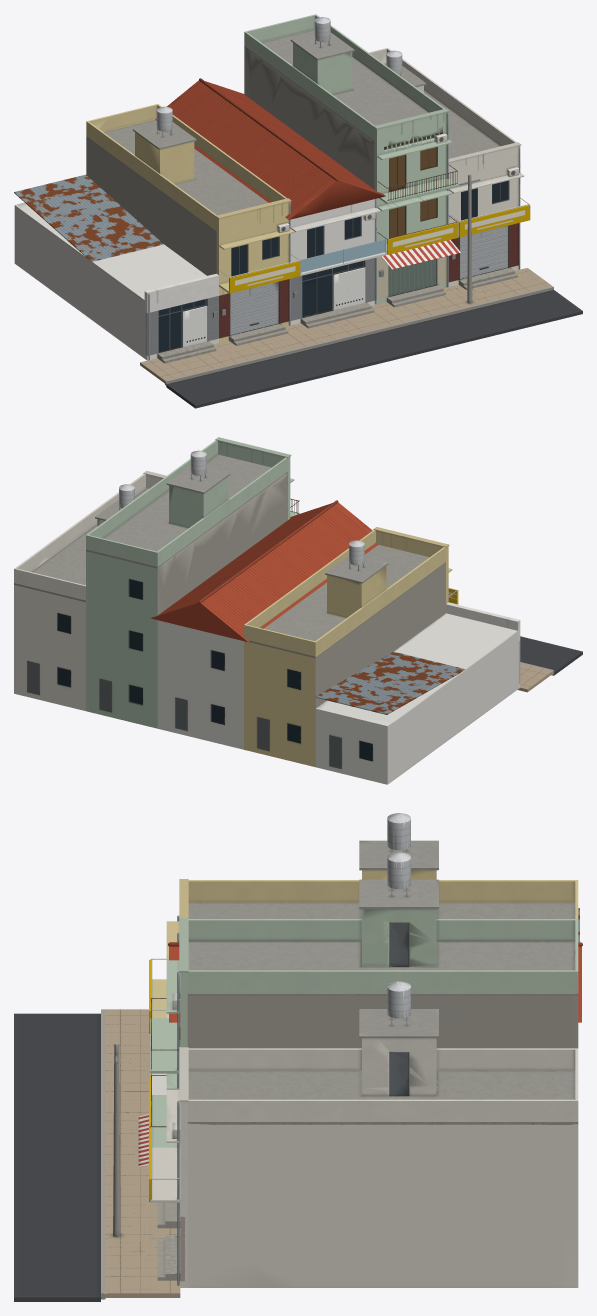
Rendered from day_pho_vung_tau.glb.
3 renders of one model, top to bottom at view 1: azimuth 30°, elevation 25°; view 2: azimuth 150°, elevation 25°; view 3: azimuth 270°, elevation 25°, orthographic. The views are drawn at different scales.
Parts seen in each view (by area): view 1: day_pho_vung_tau; view 2: day_pho_vung_tau; view 3: day_pho_vung_tau.
Part boxes in pixels (x1,y1,x2,y2): day_pho_vung_tau: (14,14,582,408); day_pho_vung_tau: (14,437,582,784); day_pho_vung_tau: (14,813,582,1301).
Bounding box in the file's own units: 27 × 15.59 × 22.87.
16 materials, 16 textured.
